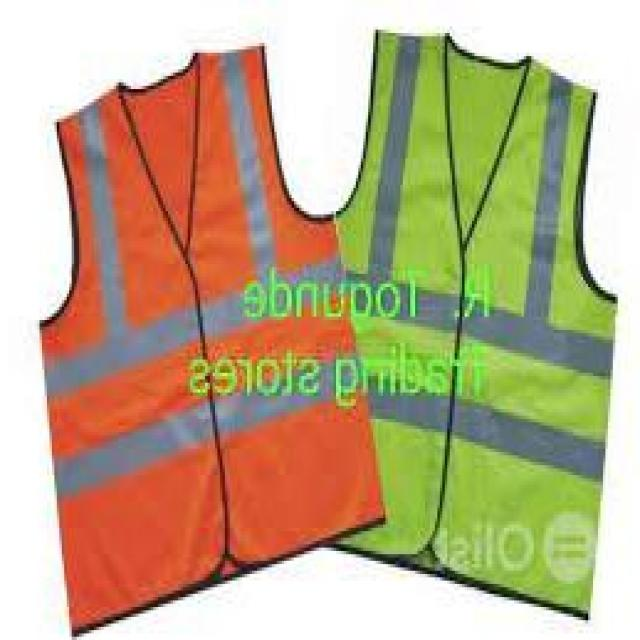Reflective-Jacket: (37, 42, 407, 638), (331, 1, 640, 633)
